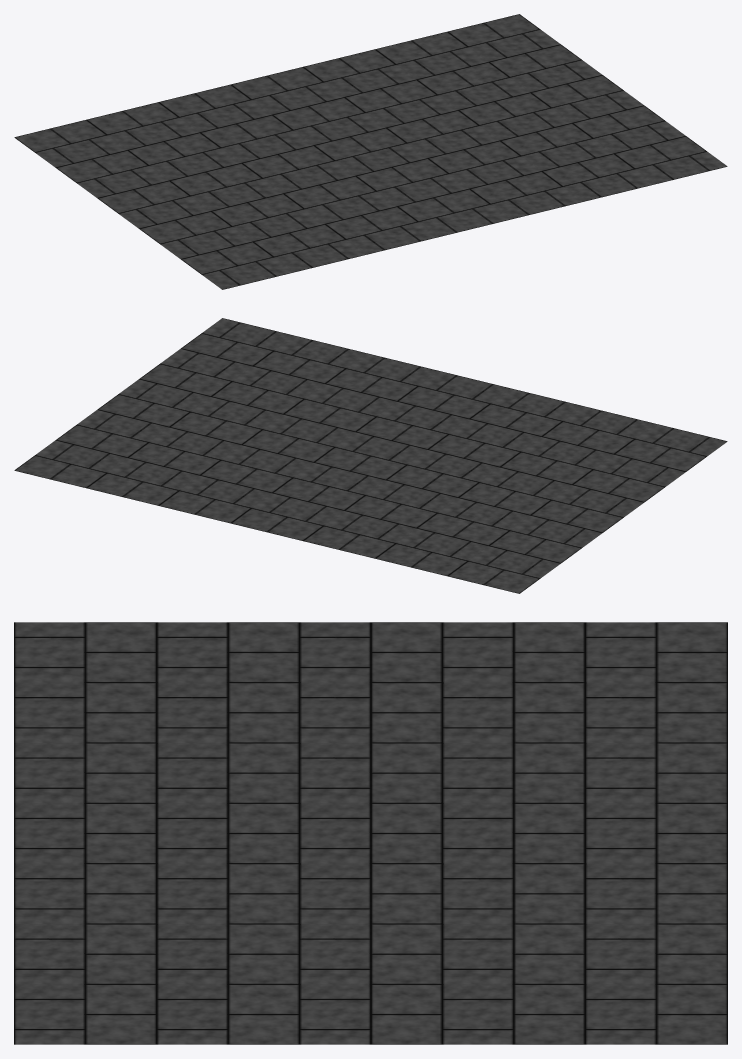
Rendered from tiles.glb.
3 renders of one model, top to bottom at view 1: azimuth 30°, elevation 25°; view 2: azimuth 150°, elevation 25°; view 3: azimuth 270°, elevation 25°, orthographic. The views are drawn at different scales.
Visible parts, largest first — view 1: Plane; view 2: Plane; view 3: Plane.
Boxes of the visible parts, x1=… form: Plane: x1=14, y1=14, x2=727, y2=289; Plane: x1=14, y1=318, x2=727, y2=593; Plane: x1=14, y1=622, x2=727, y2=1044.
Size of the model in its own units: 7 by 0 by 5.
1 material, 1 textured.
